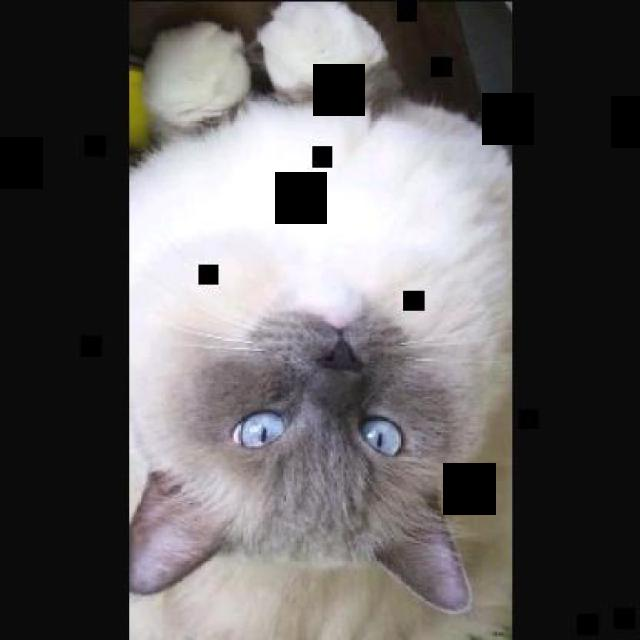unauthorized: (127, 0, 512, 638)
